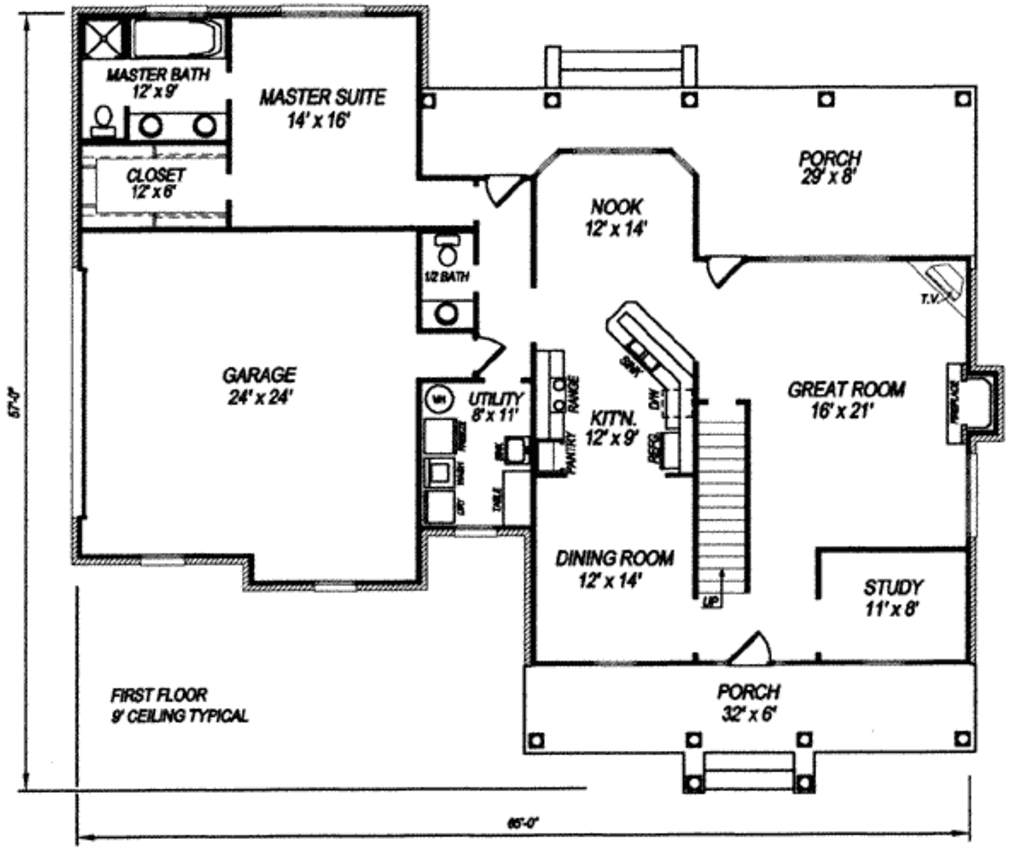door: (730, 630, 775, 675), (703, 252, 753, 292), (482, 169, 528, 209), (473, 330, 505, 378)
kitchen_bar: (603, 299, 694, 410)
large_sink: (428, 227, 470, 273), (85, 103, 122, 141)
small_sink: (127, 110, 228, 144), (418, 298, 475, 328)
stairs: (691, 391, 757, 611)
tub: (131, 14, 234, 66)
window: (277, 1, 378, 23), (963, 442, 984, 539), (306, 578, 362, 595), (136, 550, 186, 566)
